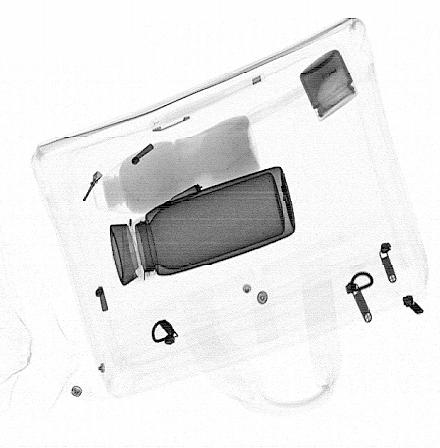Bullet: (154, 184, 202, 210)
